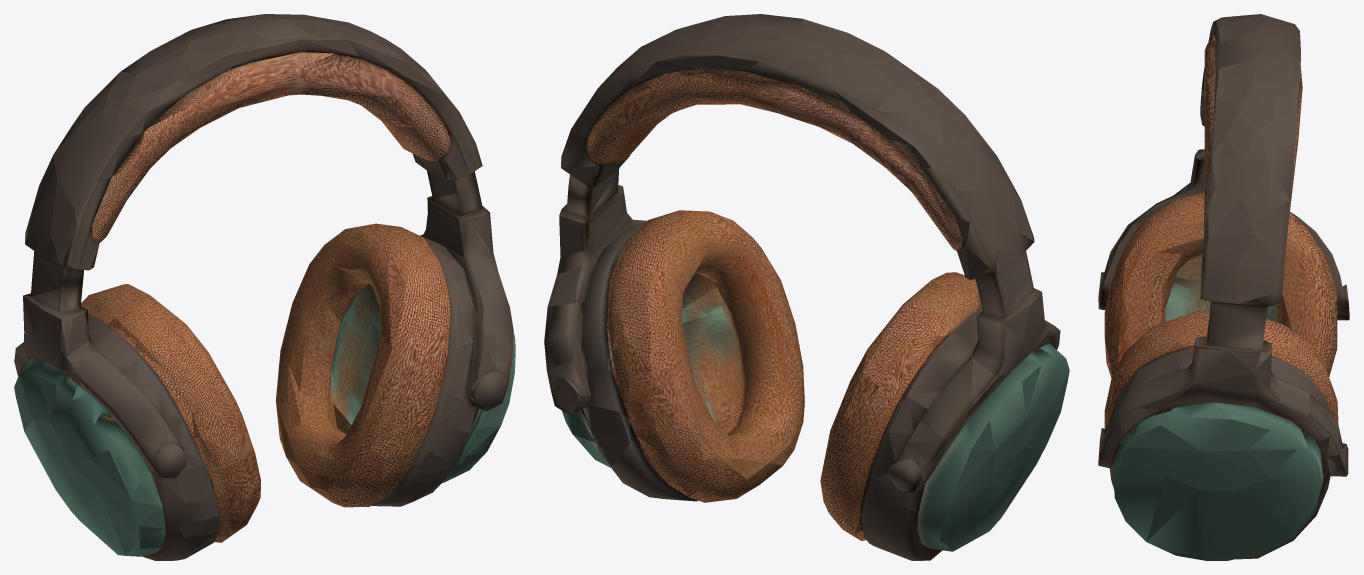
Rendered from tripo_convert_6f5a84eb-3939-44cc-b9c4-d7fb509f14ae.fbx.
3 renders of one model, left to right at view 1: azimuth 30°, elevation 25°; view 2: azimuth 150°, elevation 25°; view 3: azimuth 270°, elevation 25°, orthographic. The views are drawn at different scales.
Visible parts, largest first — view 1: tripo_node_6f5a84eb; view 2: tripo_node_6f5a84eb; view 3: tripo_node_6f5a84eb.
Part boxes in pixels (left/top/right/bottom): tripo_node_6f5a84eb: left=14, top=14, right=515, bottom=560; tripo_node_6f5a84eb: left=544, top=14, right=1069, bottom=560; tripo_node_6f5a84eb: left=1098, top=14, right=1349, bottom=560.
Size of the model in its own units: 92.46 by 48.06 by 98.17.
Materials: 1 (1 with a texture image).
